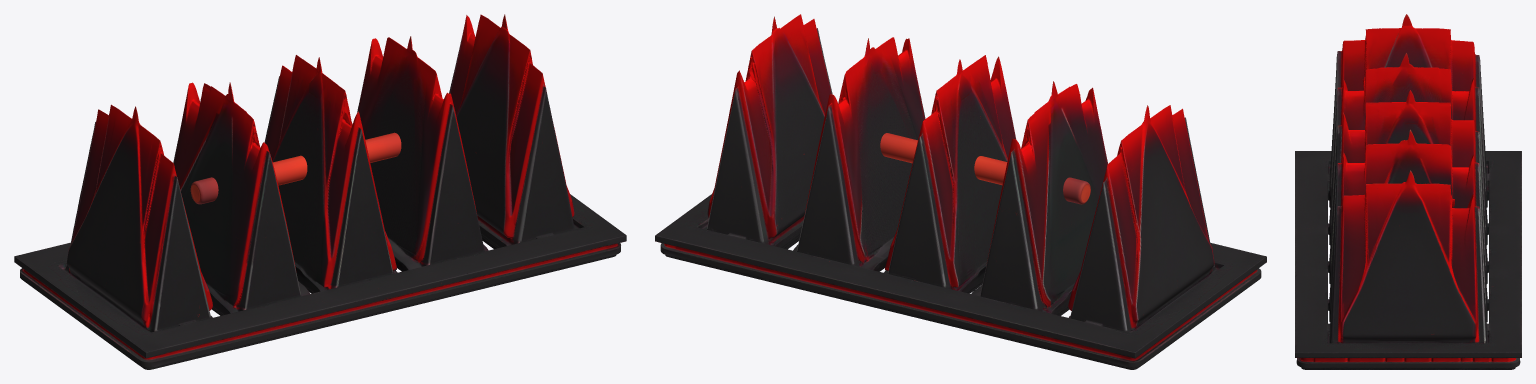
3 views of the same model, side by side, from view 1: azimuth 30°, elevation 25°; view 2: azimuth 150°, elevation 25°; view 3: azimuth 270°, elevation 25° (orthographic). The views are drawn at different scales.
Visible parts, largest first — view 1: Mesh_0.012, LaserBeam; view 2: Mesh_0.012, LaserBeam; view 3: Mesh_0.012.
Boxes of the visible parts, <box> form: Mesh_0.012: <box>14,14,626,369</box>; LaserBeam: <box>190,132,401,204</box>; Mesh_0.012: <box>655,14,1266,369</box>; LaserBeam: <box>880,133,1090,204</box>; Mesh_0.012: <box>1295,14,1521,369</box>.
Size of the model in its own units: 1.9 by 0.7931 by 0.9021.
Materials: 2 (2 with a texture image).
